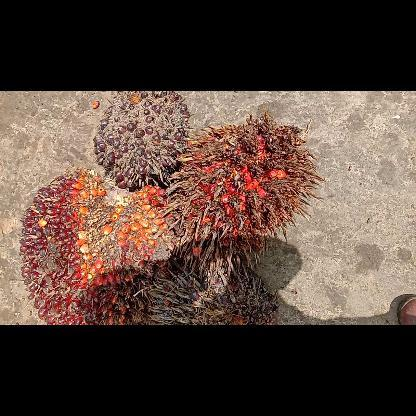Kurang masak: (91, 91, 189, 190)
TBS abnormal: (173, 260, 277, 324)
TBS masak: (19, 168, 173, 324)
Terlalu masak: (172, 113, 322, 253)
